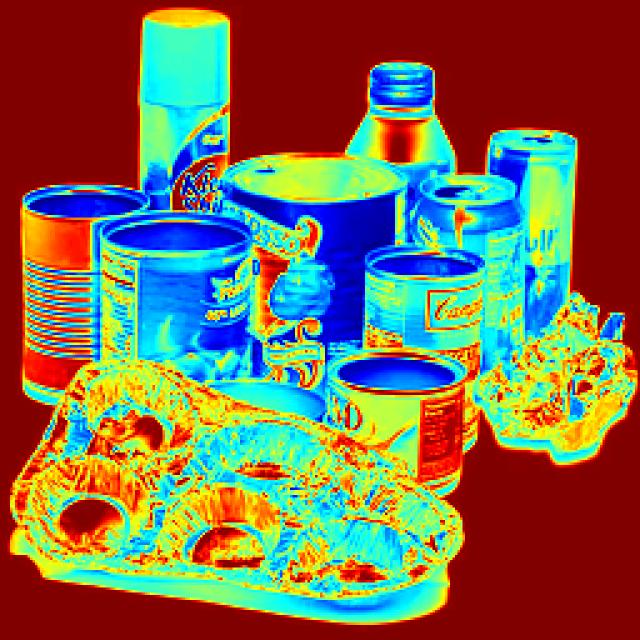Aerosol Cans: (496, 309, 626, 445), (146, 23, 254, 181)
Aluminium Food Cans: (243, 166, 384, 322), (107, 224, 246, 366), (26, 175, 131, 332), (418, 180, 546, 306), (343, 344, 452, 443), (496, 125, 592, 236), (386, 256, 474, 353), (370, 50, 449, 156)
